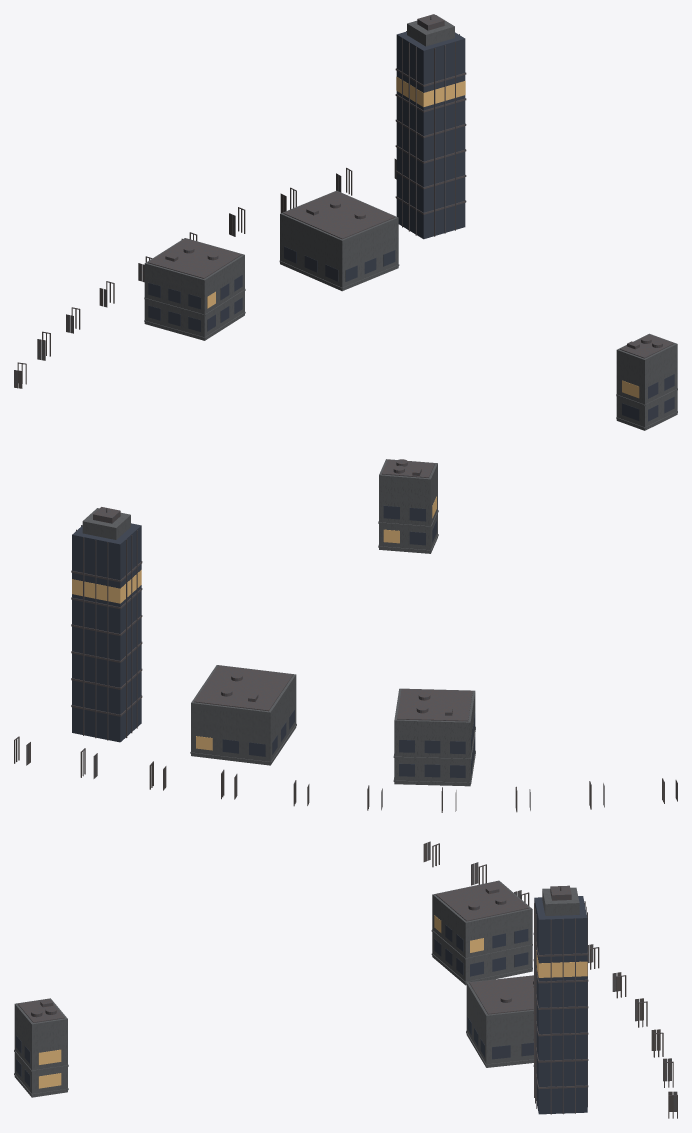
Rendered from SM_City_AbrajAlMalih_2.fbx.
The picture shows the model from 3 angles, top to bottom: view 1: azimuth 30°, elevation 25°; view 2: azimuth 150°, elevation 25°; view 3: azimuth 270°, elevation 25°; orthographic projection. The views are drawn at different scales.
Parts seen in each view (by area): view 1: SM_City_AbrajAlMalih_2; view 2: SM_City_AbrajAlMalih_2; view 3: SM_City_AbrajAlMalih_2.
Boxes of the visible parts, x1,y1,x2,y2 form: SM_City_AbrajAlMalih_2: (14,14,677,430); SM_City_AbrajAlMalih_2: (14,459,677,812); SM_City_AbrajAlMalih_2: (14,841,677,1118).
Bounding box in the file's own units: 7543 × 2948 × 8200.
Materials: 6 (6 with a texture image).
